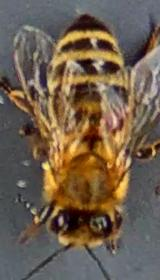varroa_mite: (96, 106, 136, 145)
